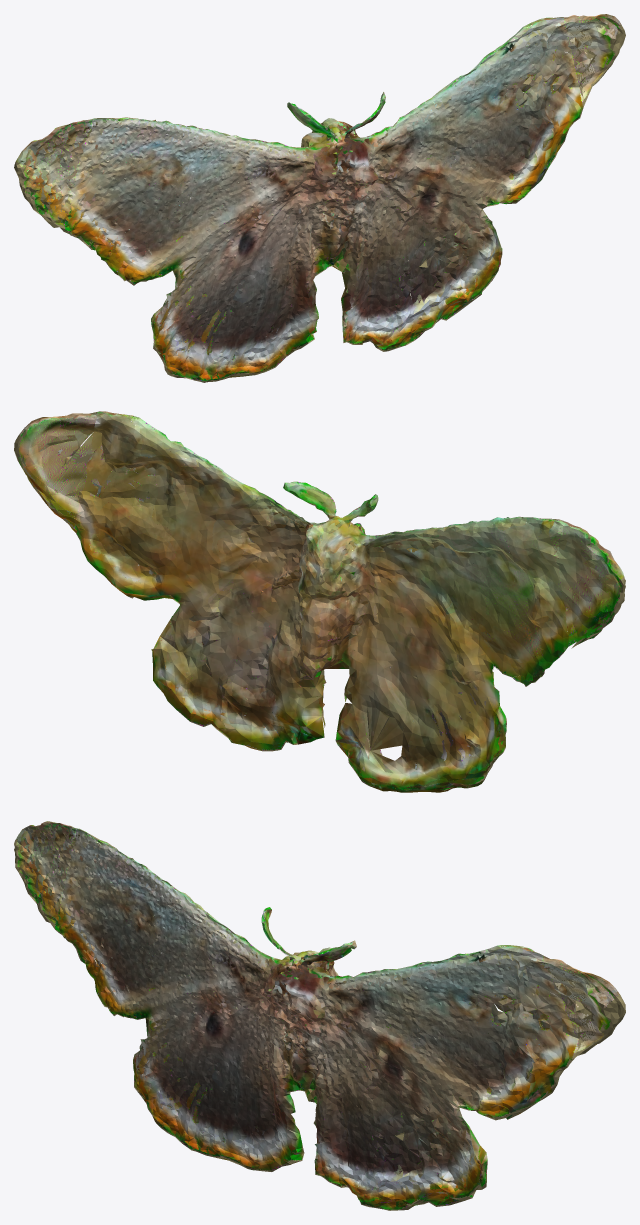
The model's file is textured_TEXTure.glb.
3 renders of one model, top to bottom at view 1: azimuth 30°, elevation 25°; view 2: azimuth 150°, elevation 25°; view 3: azimuth 330°, elevation 25°, orthographic.
Visible parts, largest first — view 1: Node; view 2: Node; view 3: Node.
Part boxes in pixels (x1=…): Node: x1=14, y1=14, x2=625, y2=382; Node: x1=14, y1=411, x2=625, y2=792; Node: x1=14, y1=821, x2=625, y2=1210.
Size of the model in its own units: 2 by 0.9521 by 0.2482.
1 material, 1 textured.
